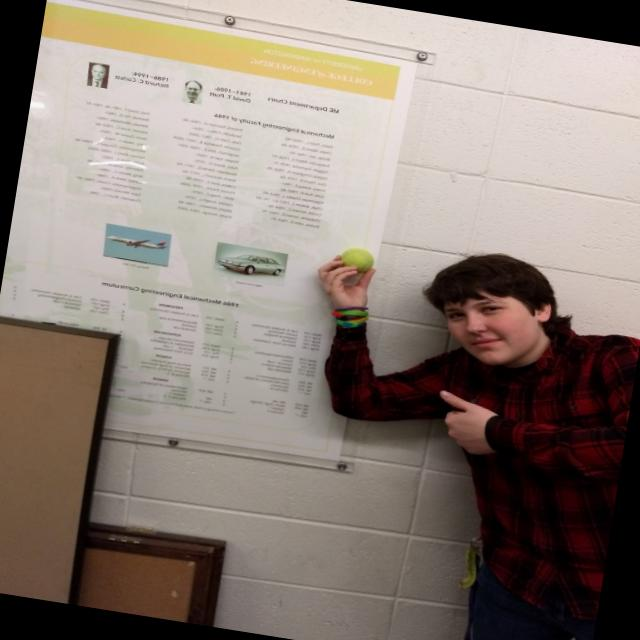Tennis Ball: (337, 246, 380, 273)
